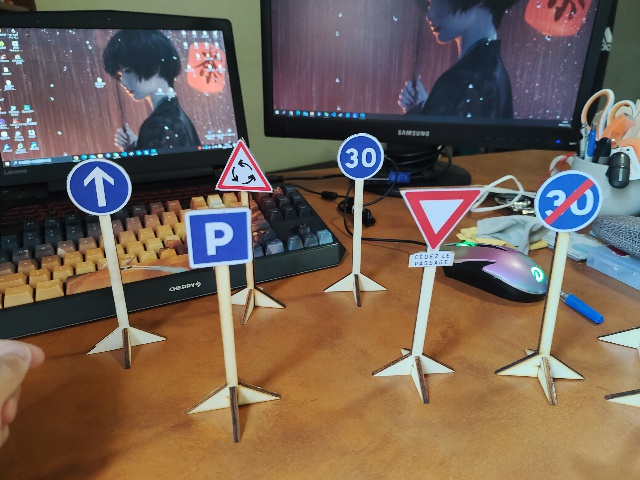P: (183, 206, 254, 266)
ban: (537, 171, 600, 236)
cycle: (213, 141, 272, 192)
second: (401, 187, 480, 268)
straight: (65, 159, 131, 215)
thirty: (338, 132, 384, 181)
